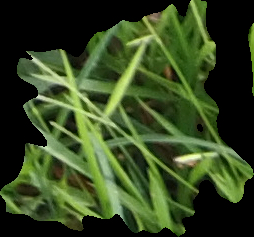grass: (1, 1, 252, 236)
